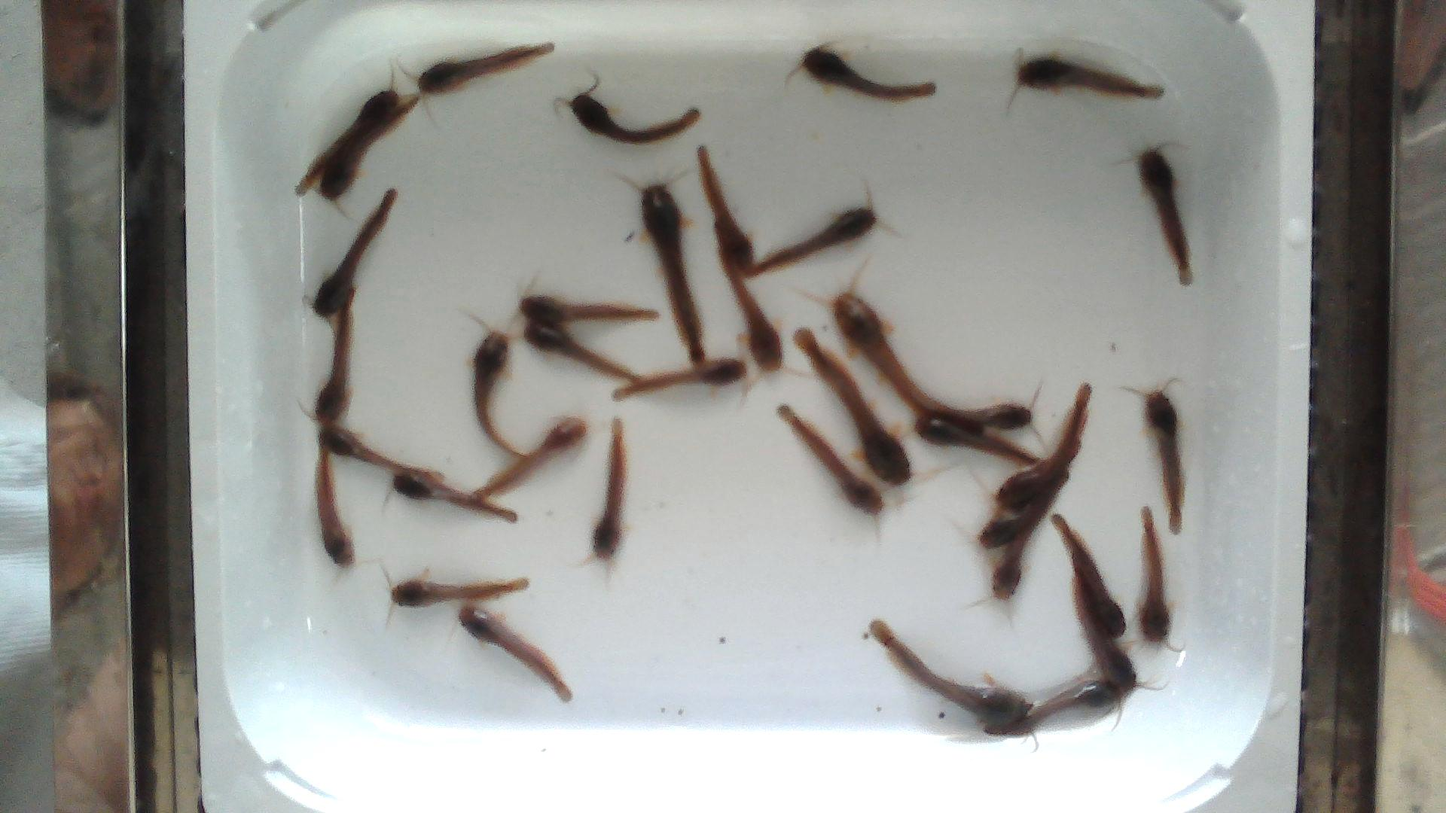lele: (795, 330, 910, 485), (870, 621, 1030, 725), (834, 291, 958, 423), (995, 386, 1091, 515), (978, 438, 1078, 551), (298, 89, 401, 198), (642, 184, 705, 362), (312, 188, 399, 316), (779, 406, 882, 514), (460, 604, 571, 699), (321, 96, 418, 203), (1053, 516, 1125, 638), (475, 418, 587, 495), (983, 677, 1121, 739), (747, 209, 880, 273), (1071, 570, 1137, 696), (720, 247, 784, 374), (522, 319, 644, 383), (993, 487, 1058, 602), (801, 46, 935, 101), (1139, 148, 1191, 285), (569, 90, 700, 143), (393, 469, 518, 524), (700, 149, 755, 273), (917, 417, 1043, 469), (418, 45, 552, 93), (315, 426, 443, 476), (1017, 55, 1161, 98), (613, 356, 746, 400), (474, 331, 520, 455), (314, 290, 356, 425), (1146, 391, 1184, 533), (593, 419, 627, 559), (317, 445, 353, 565), (1139, 508, 1170, 641), (392, 578, 528, 606), (519, 297, 660, 324), (948, 405, 1035, 430)
